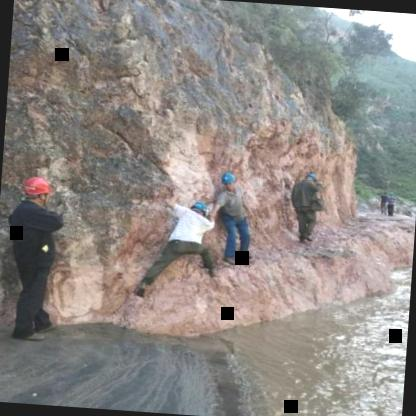helmet: (22, 174, 56, 204), (186, 199, 212, 221), (219, 170, 240, 194), (302, 168, 323, 185)
